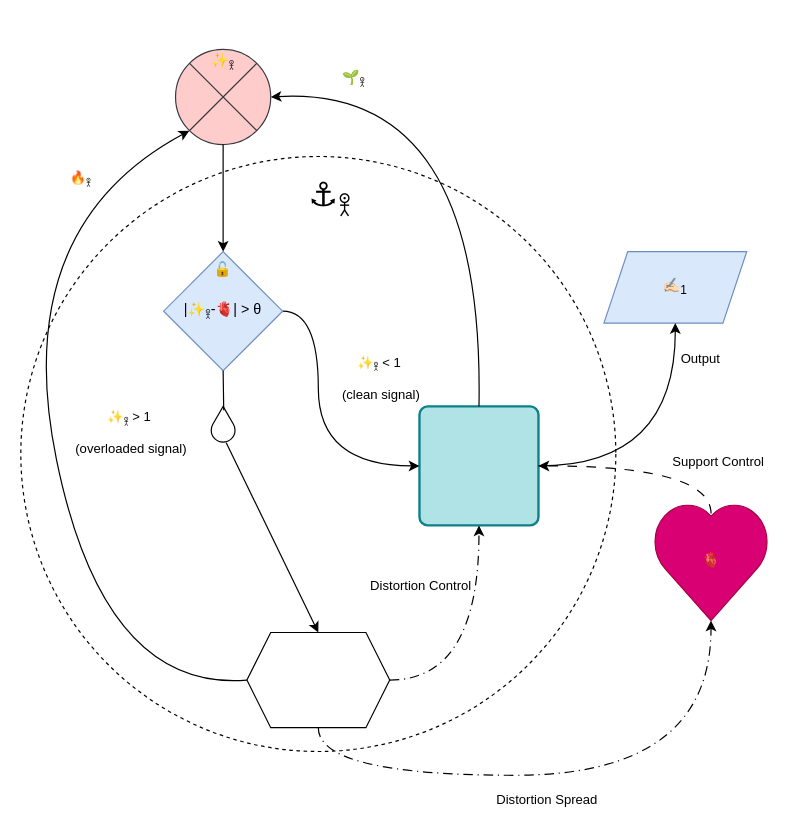
This 791x827 diagram has some shape labels left out. Here are the shapes that lost their labels. From the top down, the box of each, then its label:
(418, 405, 539, 526): ⚓︎ 𖨆 ⚖️
(246, 631, 390, 728): ⚓︎ 𖨆 🐦‍🔥
